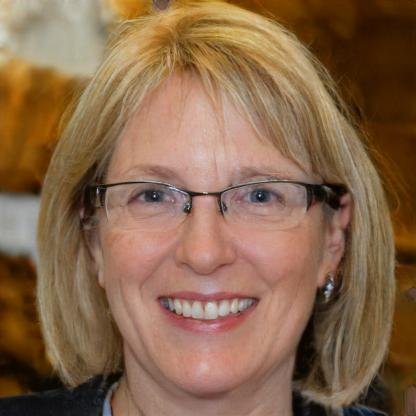glasses: (93, 176, 321, 233)
